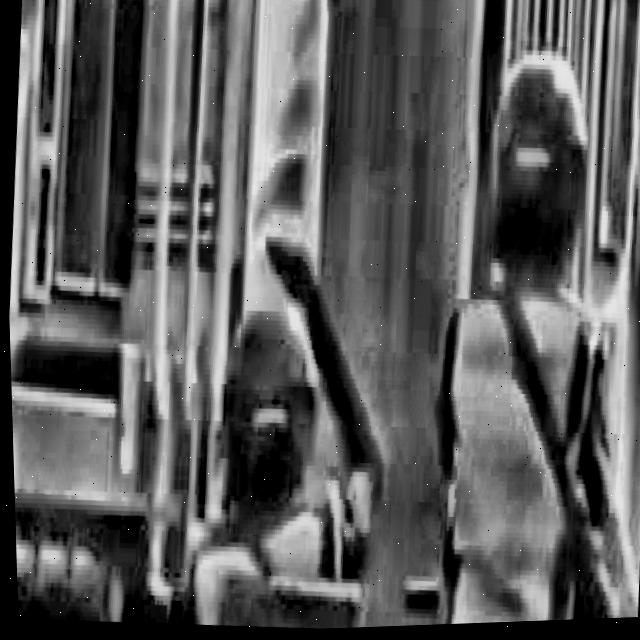Kereta: (213, 0, 640, 634)
Lokomotif: (0, 0, 365, 639)
Lori: (93, 0, 640, 637)
